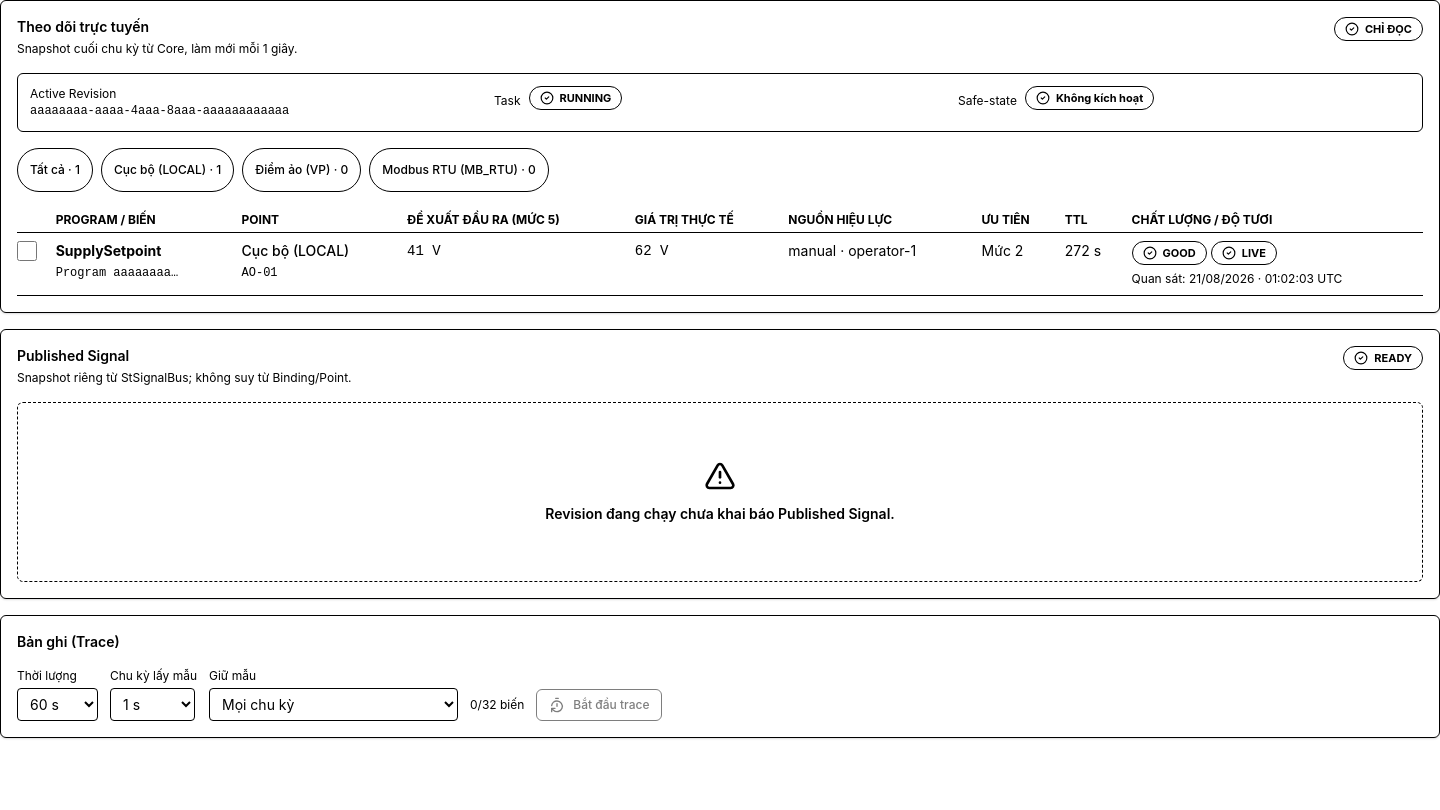
Test: WatchTab — T59-504 › trace tách lệnh khỏi đọc lại và đánh dấu mẫu Program không chạy
Step 1. Click the checkbox named "Trace SupplySetpoint" → {"x": 27, "y": 251}, box [17,241,37,261]
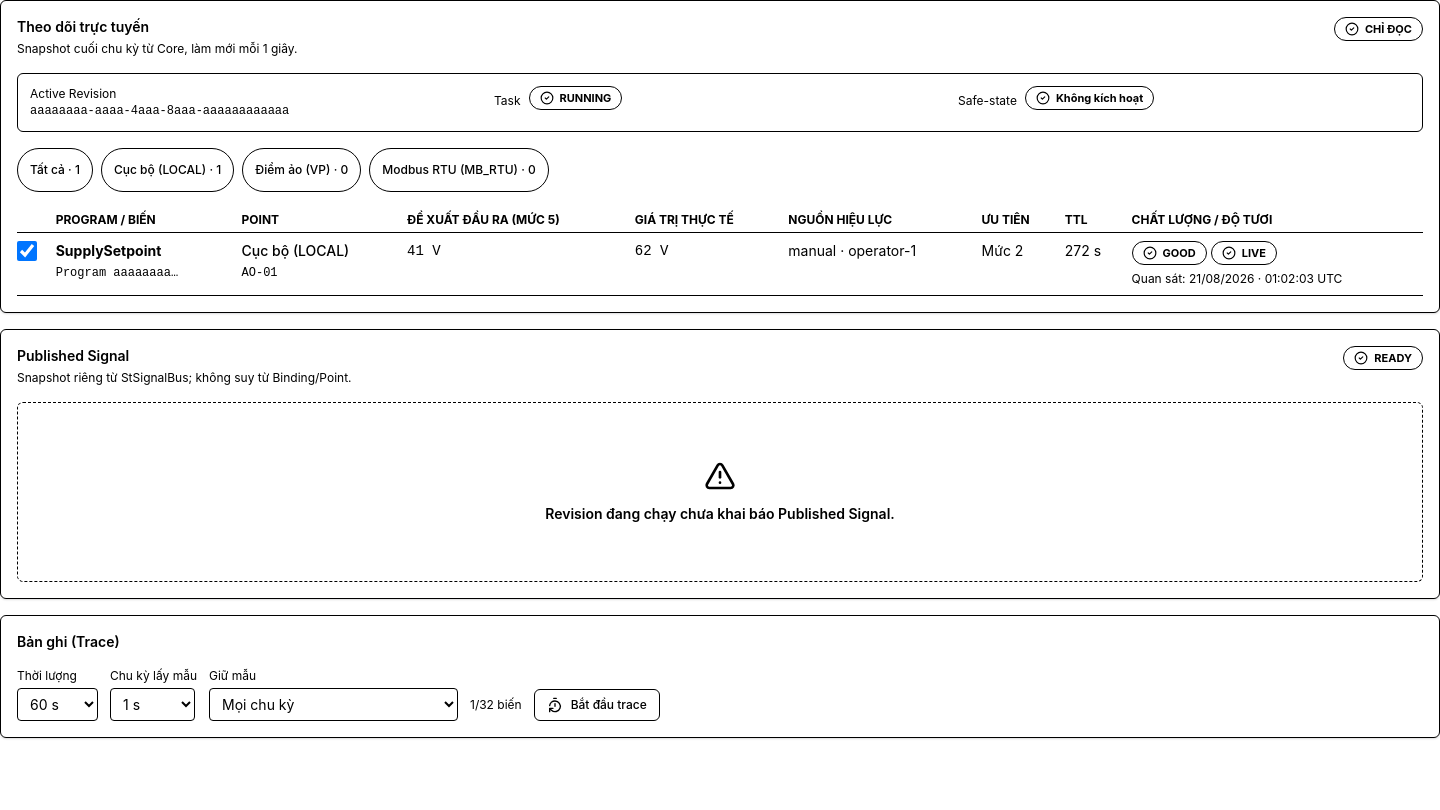
Step 2. Click the button "Bắt đầu trace" → {"x": 597, "y": 705}, box [534,689,660,721]
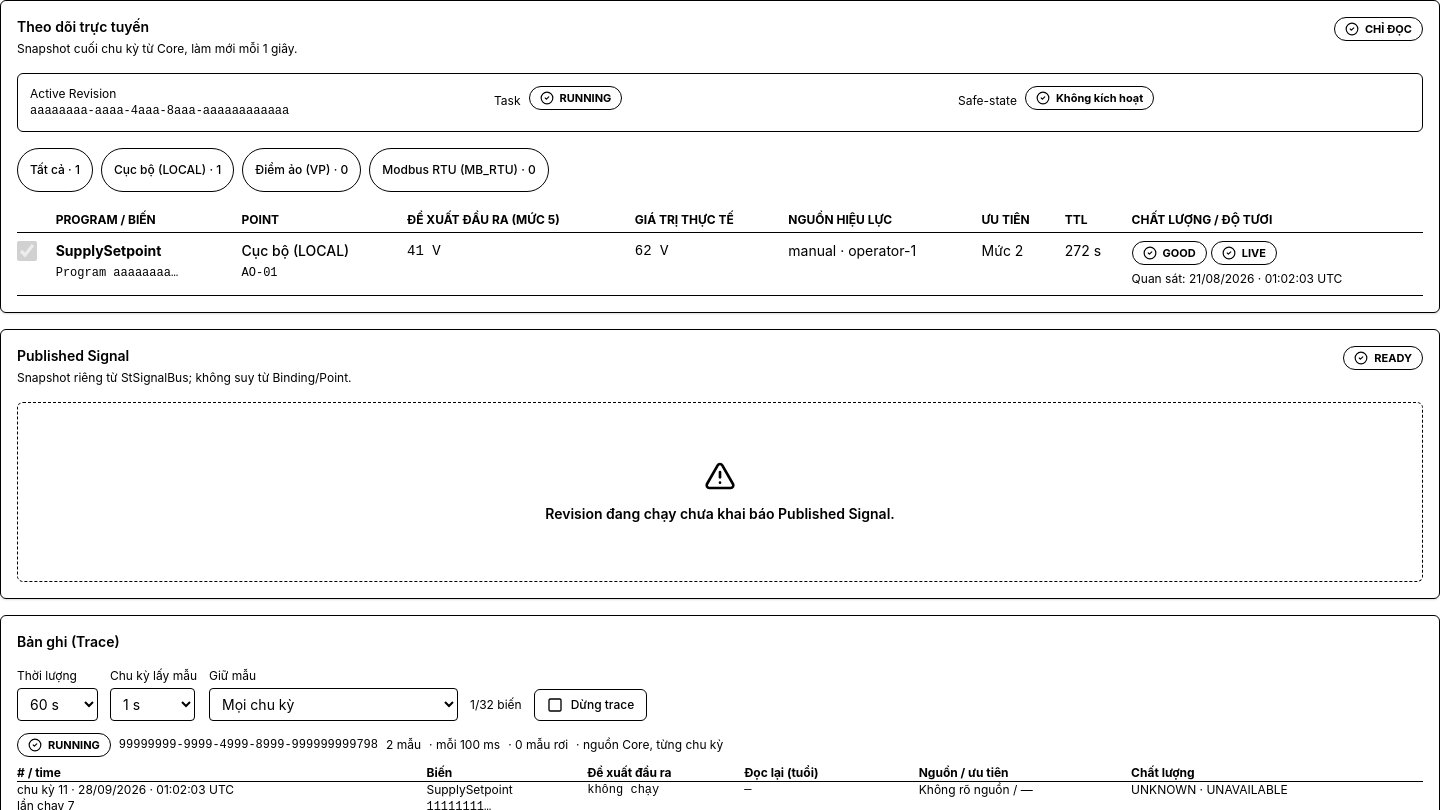
Expected: the column heading "Đọc lại (tuổi)" is shown, [744,765,919,781]
Expected: the text "không chạy" is shown, [587,783,659,797]
